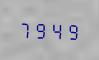four: (48, 19, 62, 40)
nine: (33, 19, 47, 39), (63, 20, 77, 40)
seven: (18, 18, 32, 39)
